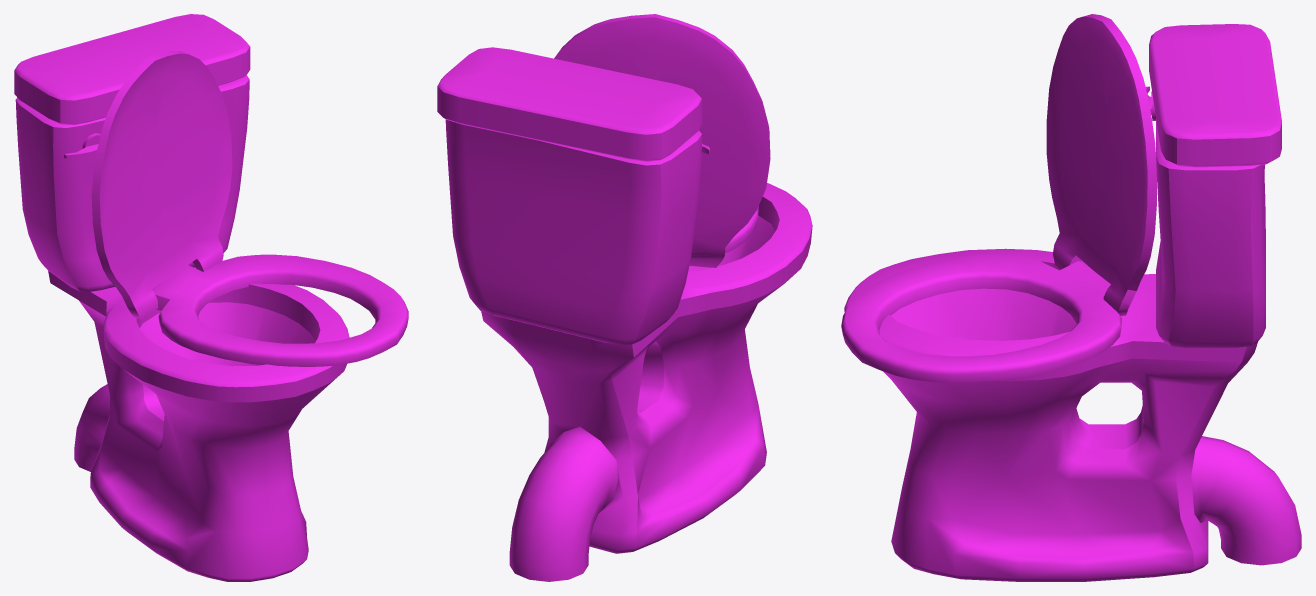
Rendered from SM_ToiletSeat1.FBX.
3 views of the same model, side by side, from view 1: azimuth 30°, elevation 25°; view 2: azimuth 150°, elevation 25°; view 3: azimuth 270°, elevation 25° (orthographic). The views are drawn at different scales.
Visible parts, largest first — view 1: ToiletSeat1; view 2: ToiletSeat1; view 3: ToiletSeat1.
Boxes of the visible parts, left/top/right/bottom form: ToiletSeat1: left=14, top=14, right=408, bottom=581; ToiletSeat1: left=437, top=14, right=812, bottom=581; ToiletSeat1: left=841, top=14, right=1301, bottom=581.
Size of the model in its own units: 67.86 by 114 by 92.86.
